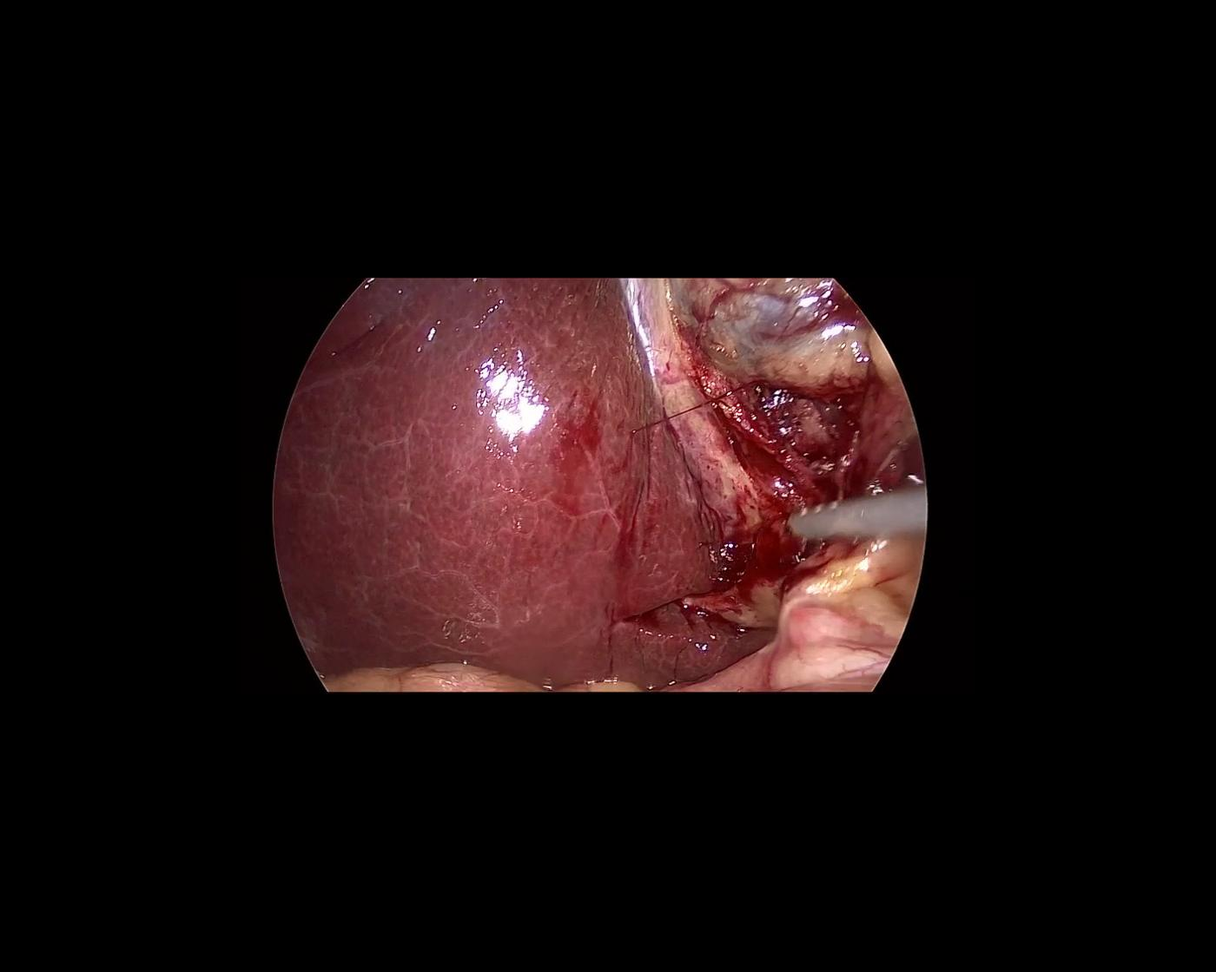Gallbladder: (670, 279, 888, 400)
Liver: (274, 279, 778, 691)
Suction: (788, 489, 930, 544)
